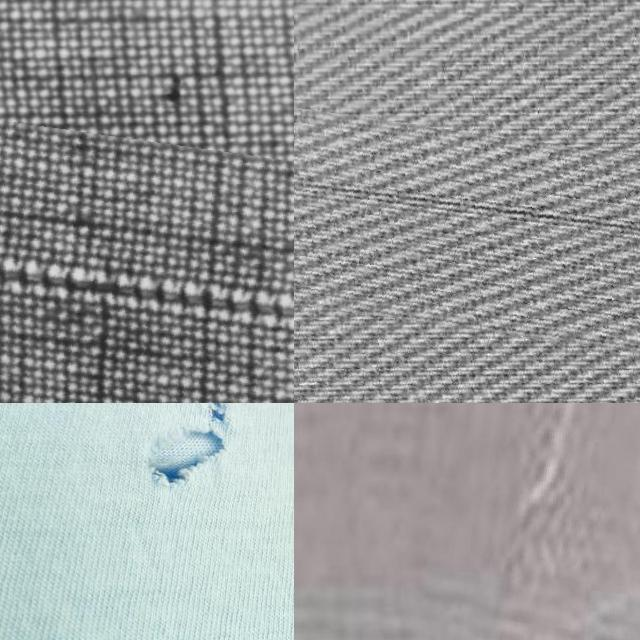Thread_other: (0, 110, 294, 403), (294, 122, 640, 358), (431, 403, 640, 640)
seam: (109, 403, 235, 506)
